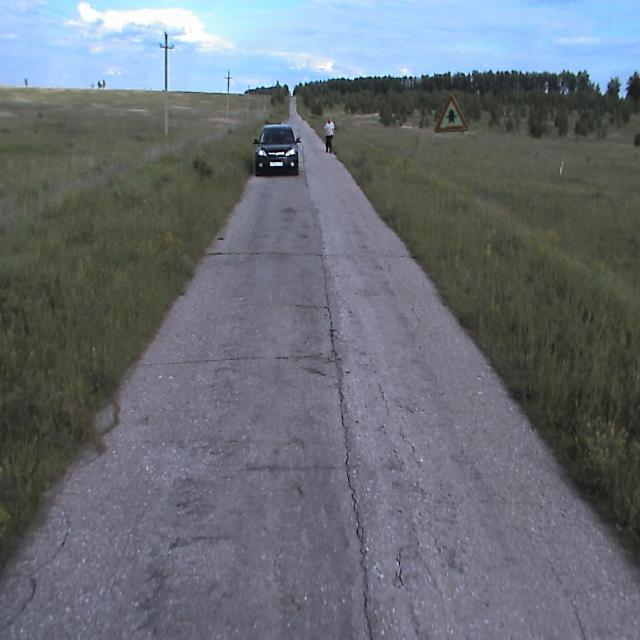road: (0, 127, 639, 639)
